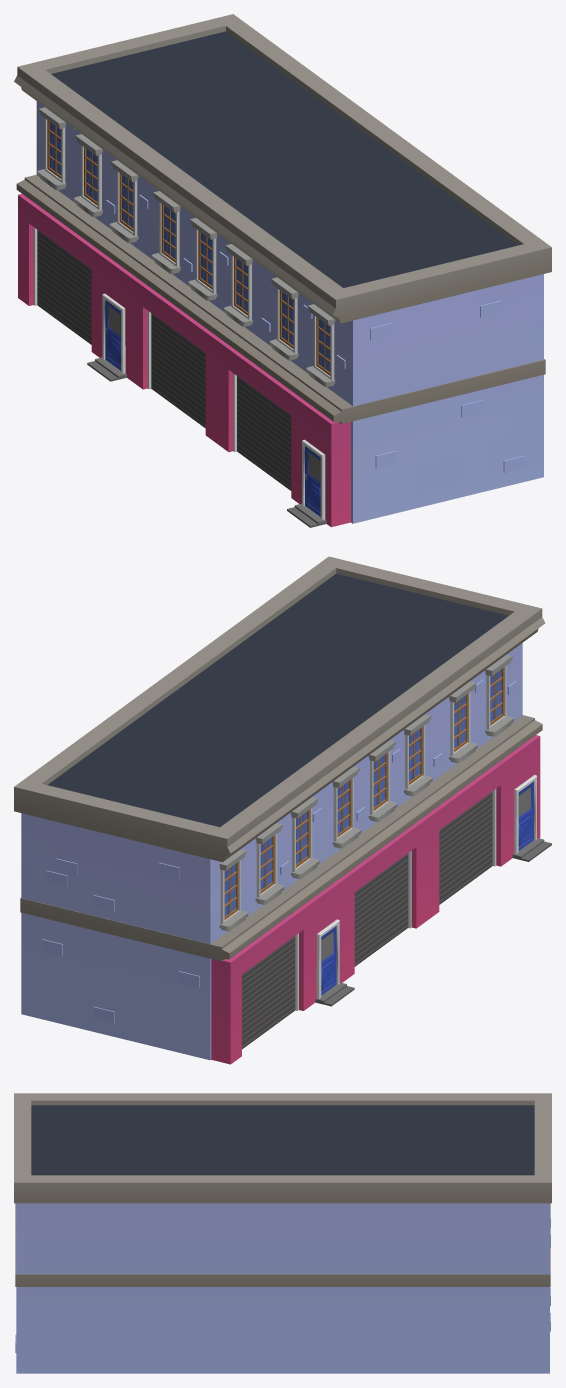
Rendered from Building_20_3_G.fbx.
The picture shows the model from 3 angles, top to bottom: view 1: azimuth 30°, elevation 25°; view 2: azimuth 150°, elevation 25°; view 3: azimuth 270°, elevation 25°; orthographic projection. The views are drawn at different scales.
Parts seen in each view (by area): view 1: Building_20_3_G; view 2: Building_20_3_G; view 3: Building_20_3_G.
Part boxes in pixels (x1,y1,x2,y2): Building_20_3_G: [14, 14, 551, 527]; Building_20_3_G: [14, 556, 551, 1064]; Building_20_3_G: [14, 1093, 551, 1373].
Bounding box in the file's own units: 774 × 726 × 1827.
